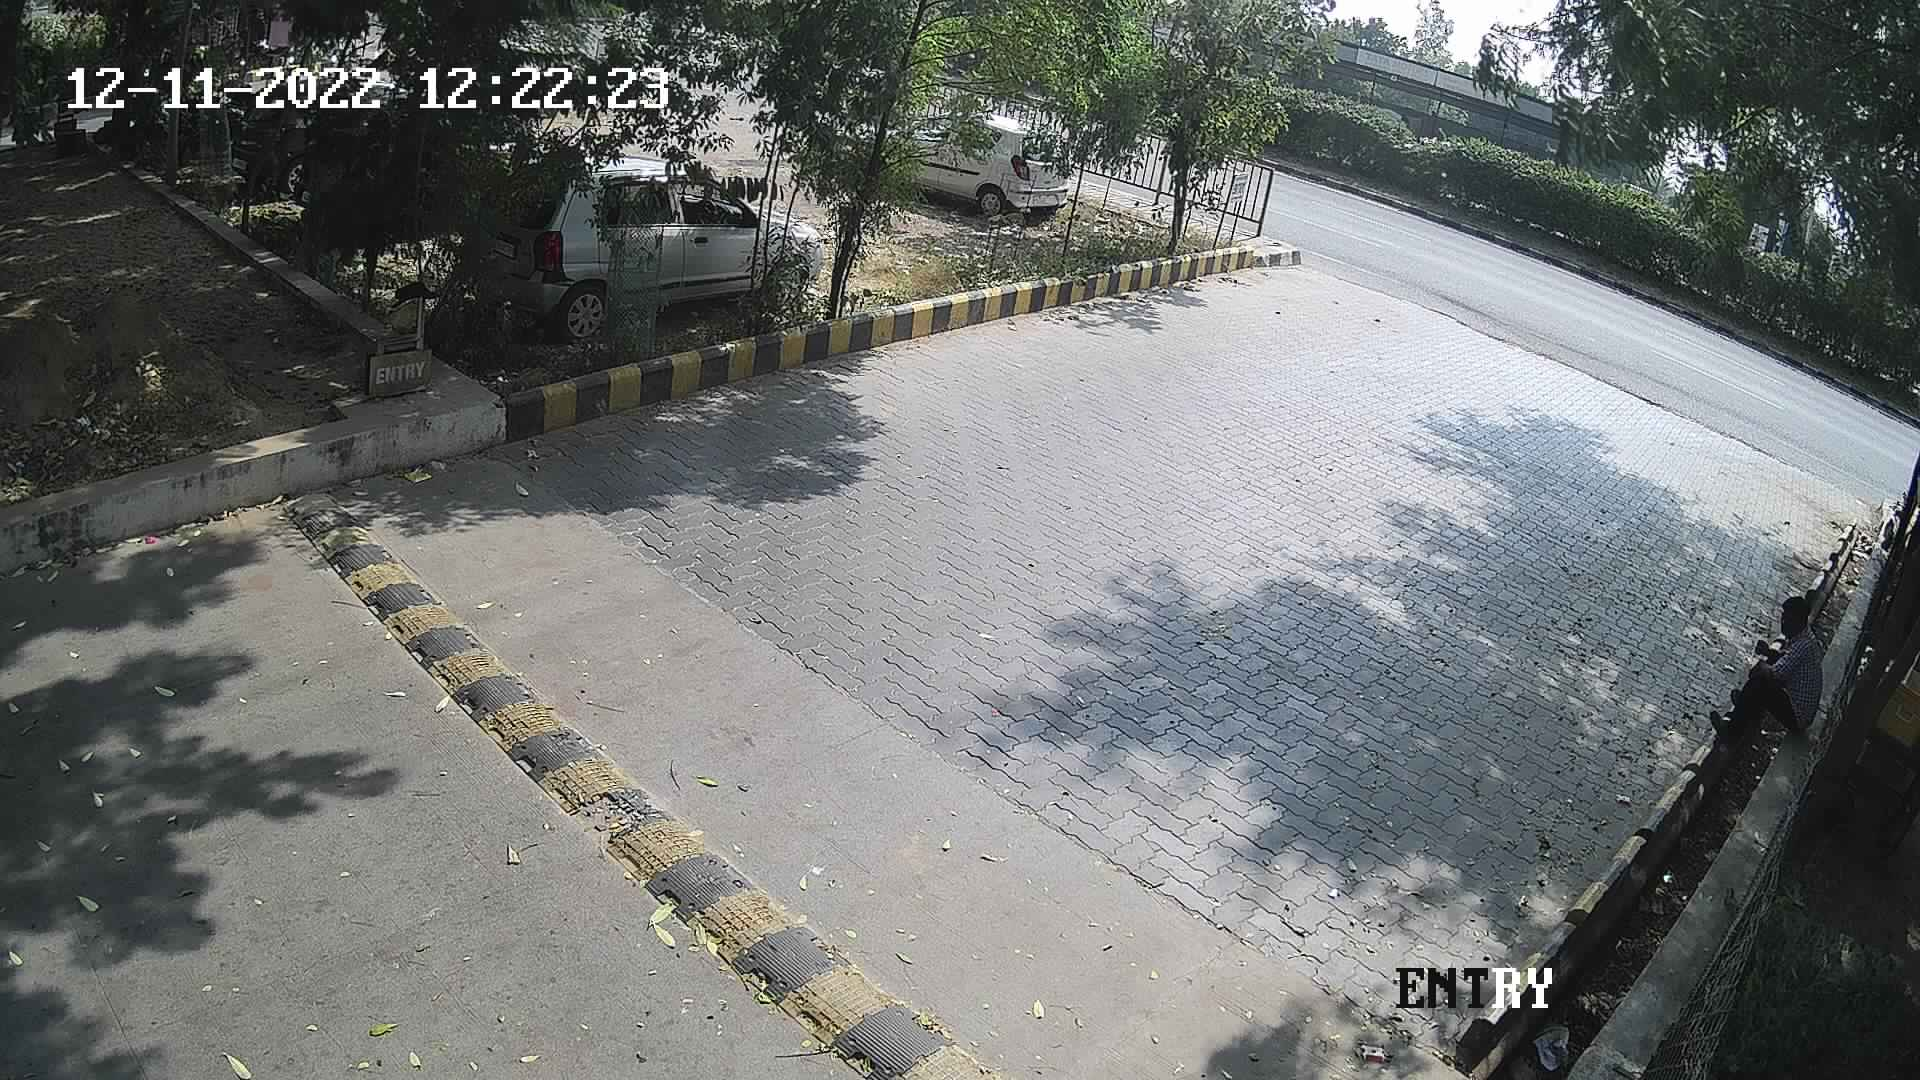Car: (456, 144, 827, 349), (837, 98, 1073, 229)
